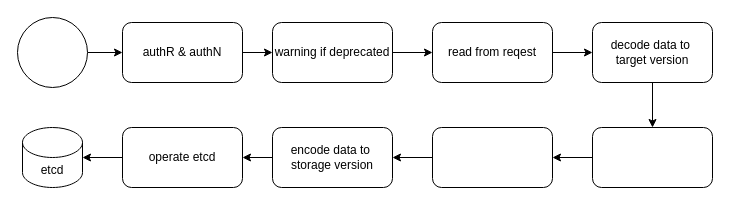
The diagram is 730 pixels wide and 205 high, and some of its shapes have lost their labels. Here are the shapes that lost their labels. From the top down, the centre of each, then its label:
At point 52,52: "object".
At point 492,157: "validatingWebhook".
At point 652,157: "mutatingWebhook".
